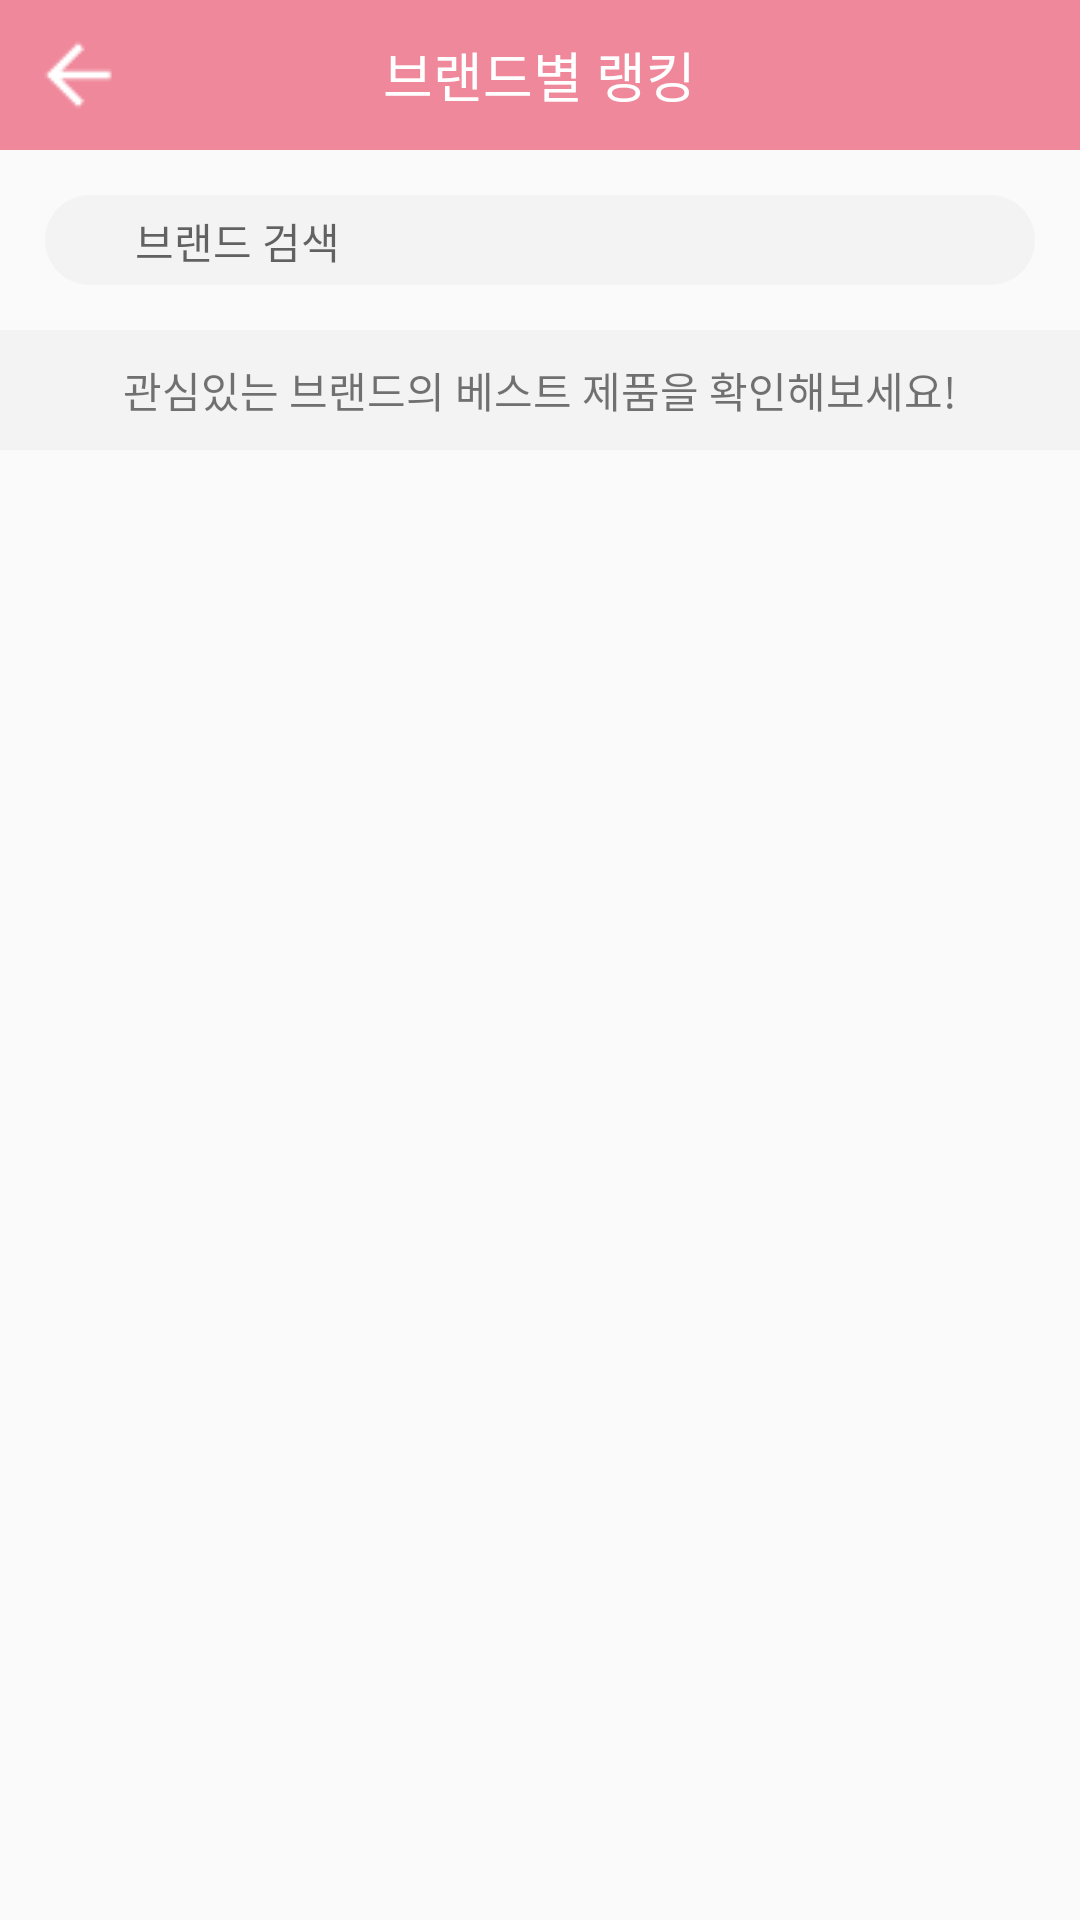

Screen size 1080px×1920px. Icon name, then its box in pixels as [x1,y1,x2,y2]:
arrow back: [47,44,112,106]
